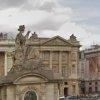Statue: (9, 15, 54, 83)
